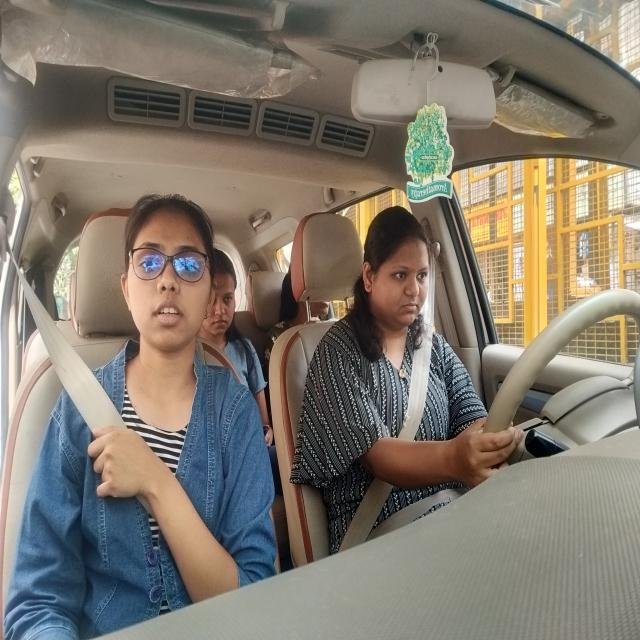person: (120, 195, 214, 358), (360, 199, 432, 338), (211, 243, 241, 343)
